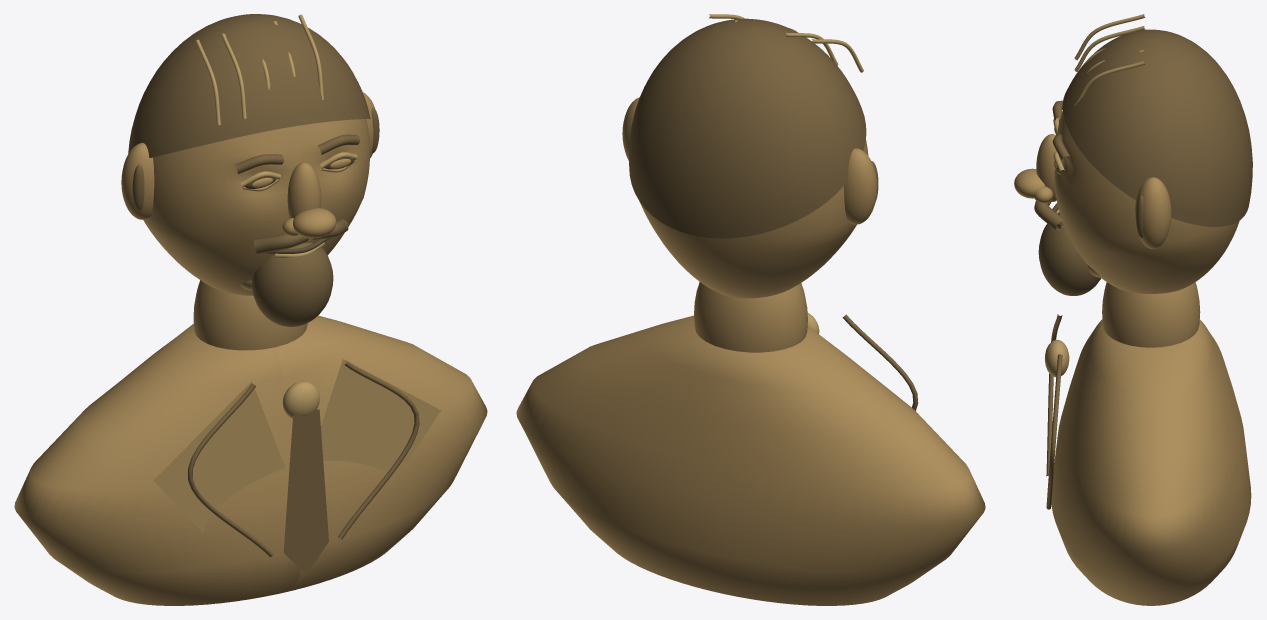
Rendered from washington.glb.
3 renders of one model, left to right at view 1: azimuth 30°, elevation 25°; view 2: azimuth 150°, elevation 25°; view 3: azimuth 270°, elevation 25°, orthographic. The views are drawn at different scales.
Parts seen in each view (by area): view 1: washington; view 2: washington; view 3: washington.
Part boxes in pixels (bbox=[...]): washington: bbox=[14, 14, 487, 605]; washington: bbox=[516, 14, 985, 605]; washington: bbox=[1014, 14, 1252, 605].
Bounding box in the file's own units: 1.22 × 1.36 × 0.5837.
